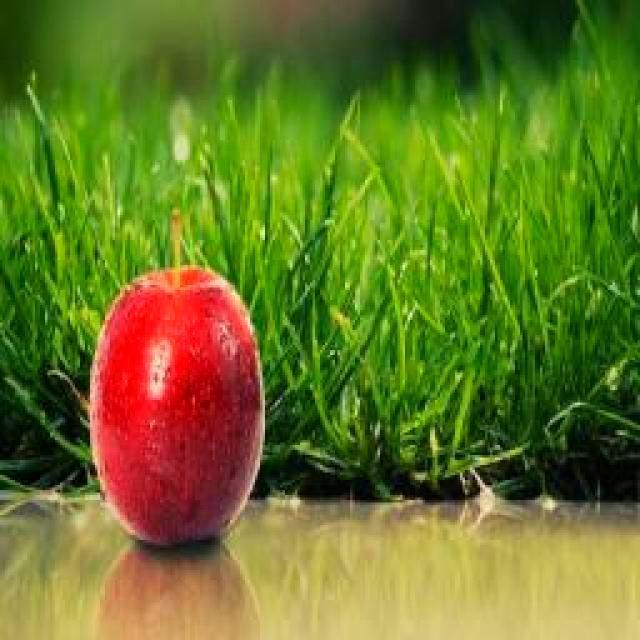Apple: (91, 266, 264, 545)
